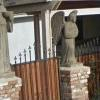Statue: (50, 8, 85, 65)
